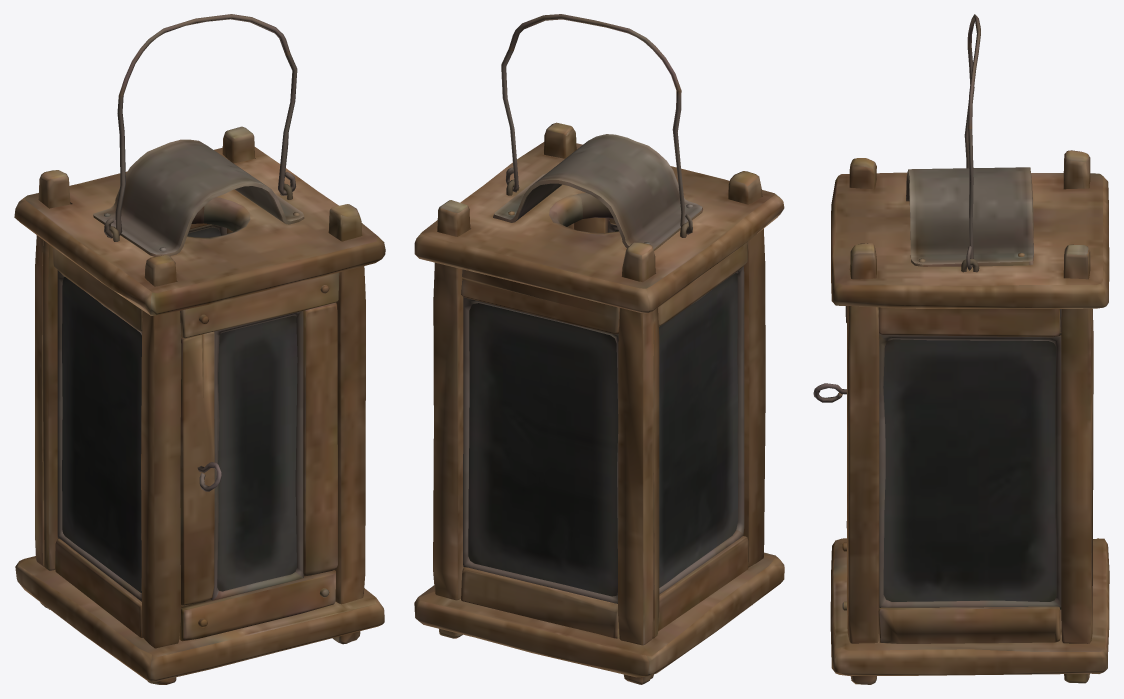
File: lantern.glb
3 renders of one model, left to right at view 1: azimuth 30°, elevation 25°; view 2: azimuth 150°, elevation 25°; view 3: azimuth 270°, elevation 25°, orthographic.
Parts seen in each view (by area): view 1: wooden_lantern_01; view 2: wooden_lantern_01; view 3: wooden_lantern_01.
Boxes of the visible parts, <box> form: wooden_lantern_01: <box>14,14,385,684</box>; wooden_lantern_01: <box>414,14,784,684</box>; wooden_lantern_01: <box>813,14,1109,684</box>.
Size of the model in its own units: 0.2211 by 0.5296 by 0.2347.
Materials: 2 (2 with a texture image).
